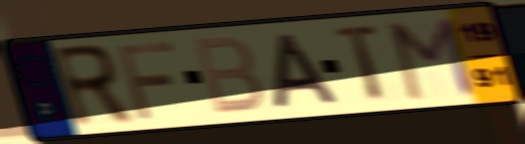A: (269, 31, 343, 111)
B: (190, 34, 267, 118)
F: (113, 38, 178, 122)
M: (387, 14, 480, 103)
R: (47, 41, 137, 131)
T: (333, 20, 388, 106)
